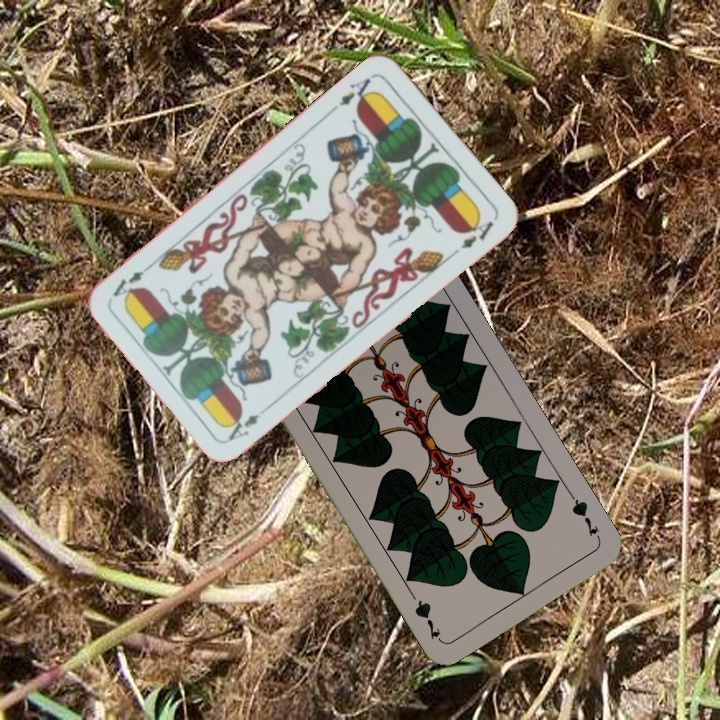EA: (222, 401, 272, 444), (328, 74, 378, 114)
G7: (565, 490, 604, 543)
